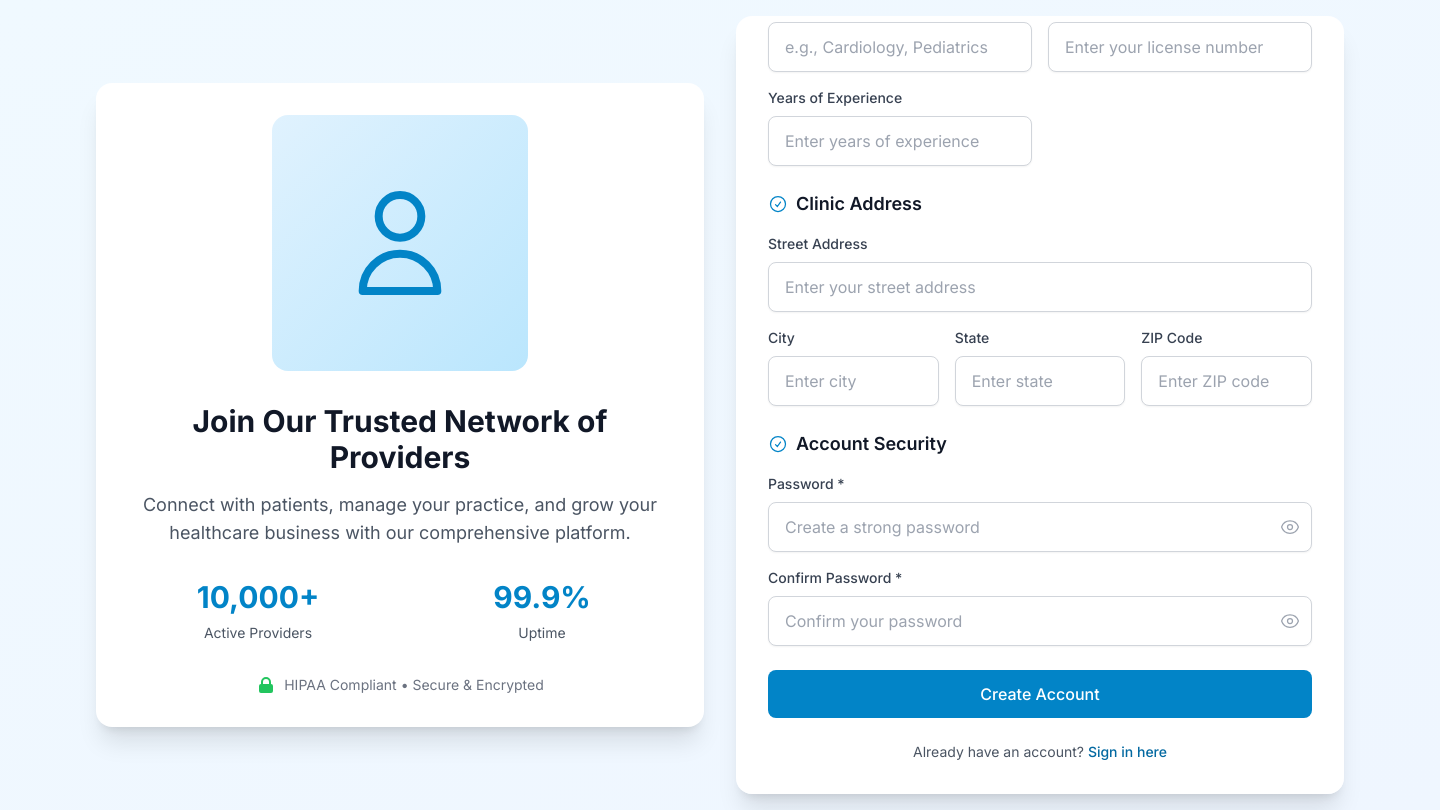
Scenario: ProviderRegister Component › shows password strength indicator
(page scrolled)
Type "weak" into the password field with test id "password-input".
click(1040, 527); type("weak")  # box [768, 502, 1312, 552]
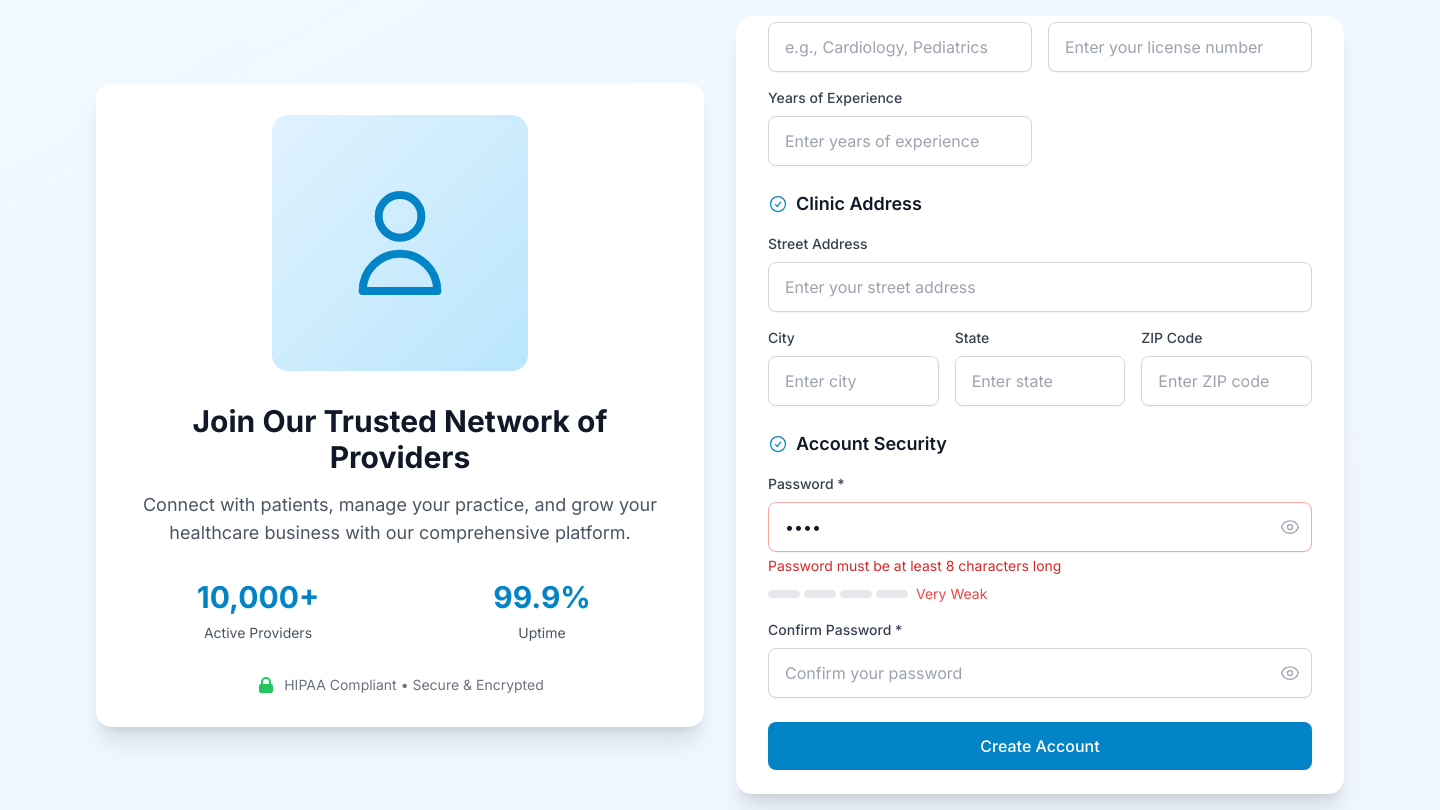
expect the text "Very Weak" is shown: met, box [916, 584, 987, 604]
